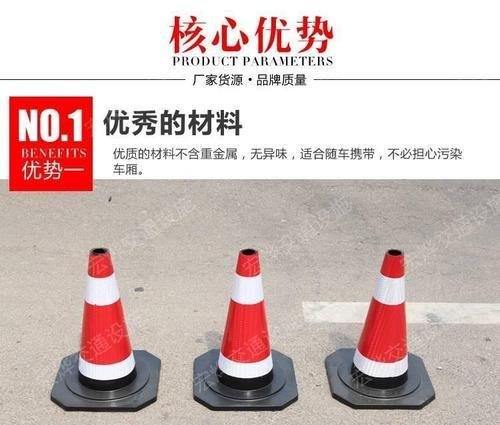cone_barrel: (64, 243, 144, 397), (206, 243, 282, 397), (341, 248, 418, 397)
